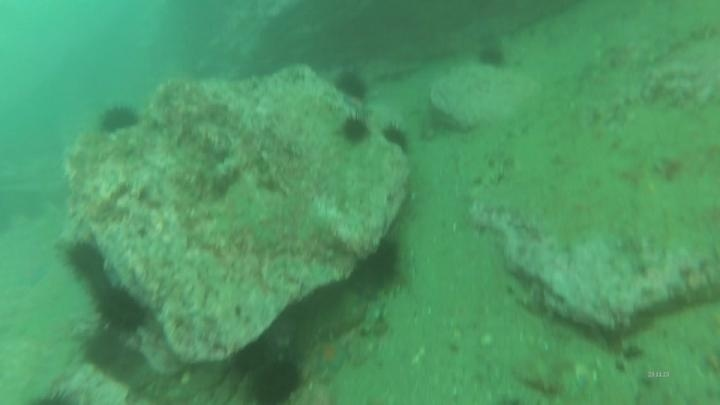echinus: (346, 234, 405, 298), (246, 356, 305, 404), (95, 284, 150, 334), (81, 328, 127, 373), (64, 238, 107, 282), (230, 337, 275, 377), (96, 102, 141, 137), (332, 68, 371, 103), (379, 121, 414, 158), (337, 114, 372, 148), (474, 42, 509, 72)
starfish: (310, 334, 353, 378), (9, 259, 51, 292)
